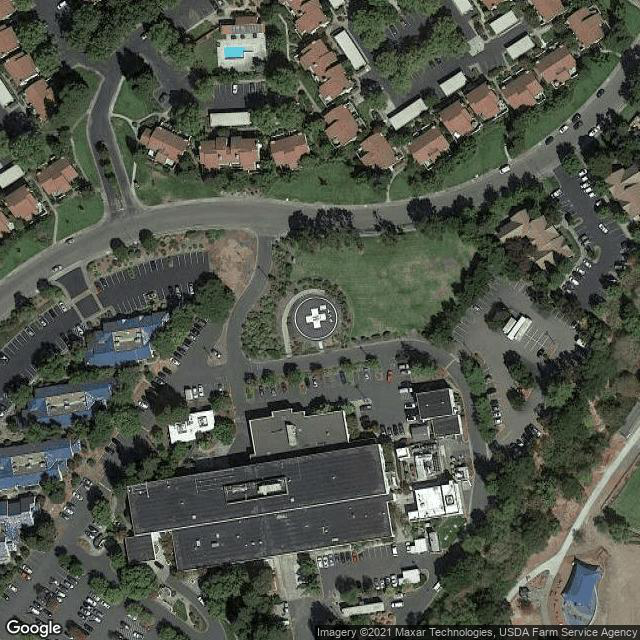Helipad: (293, 296, 339, 339)
